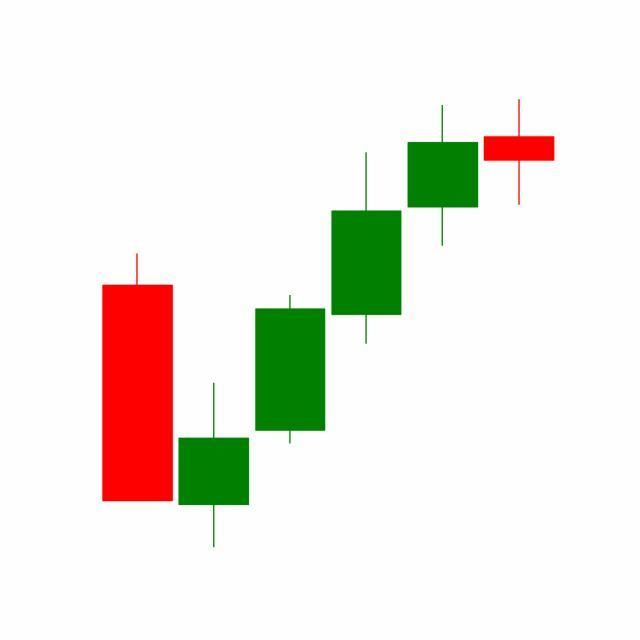Advance Block: (252, 102, 482, 448)
